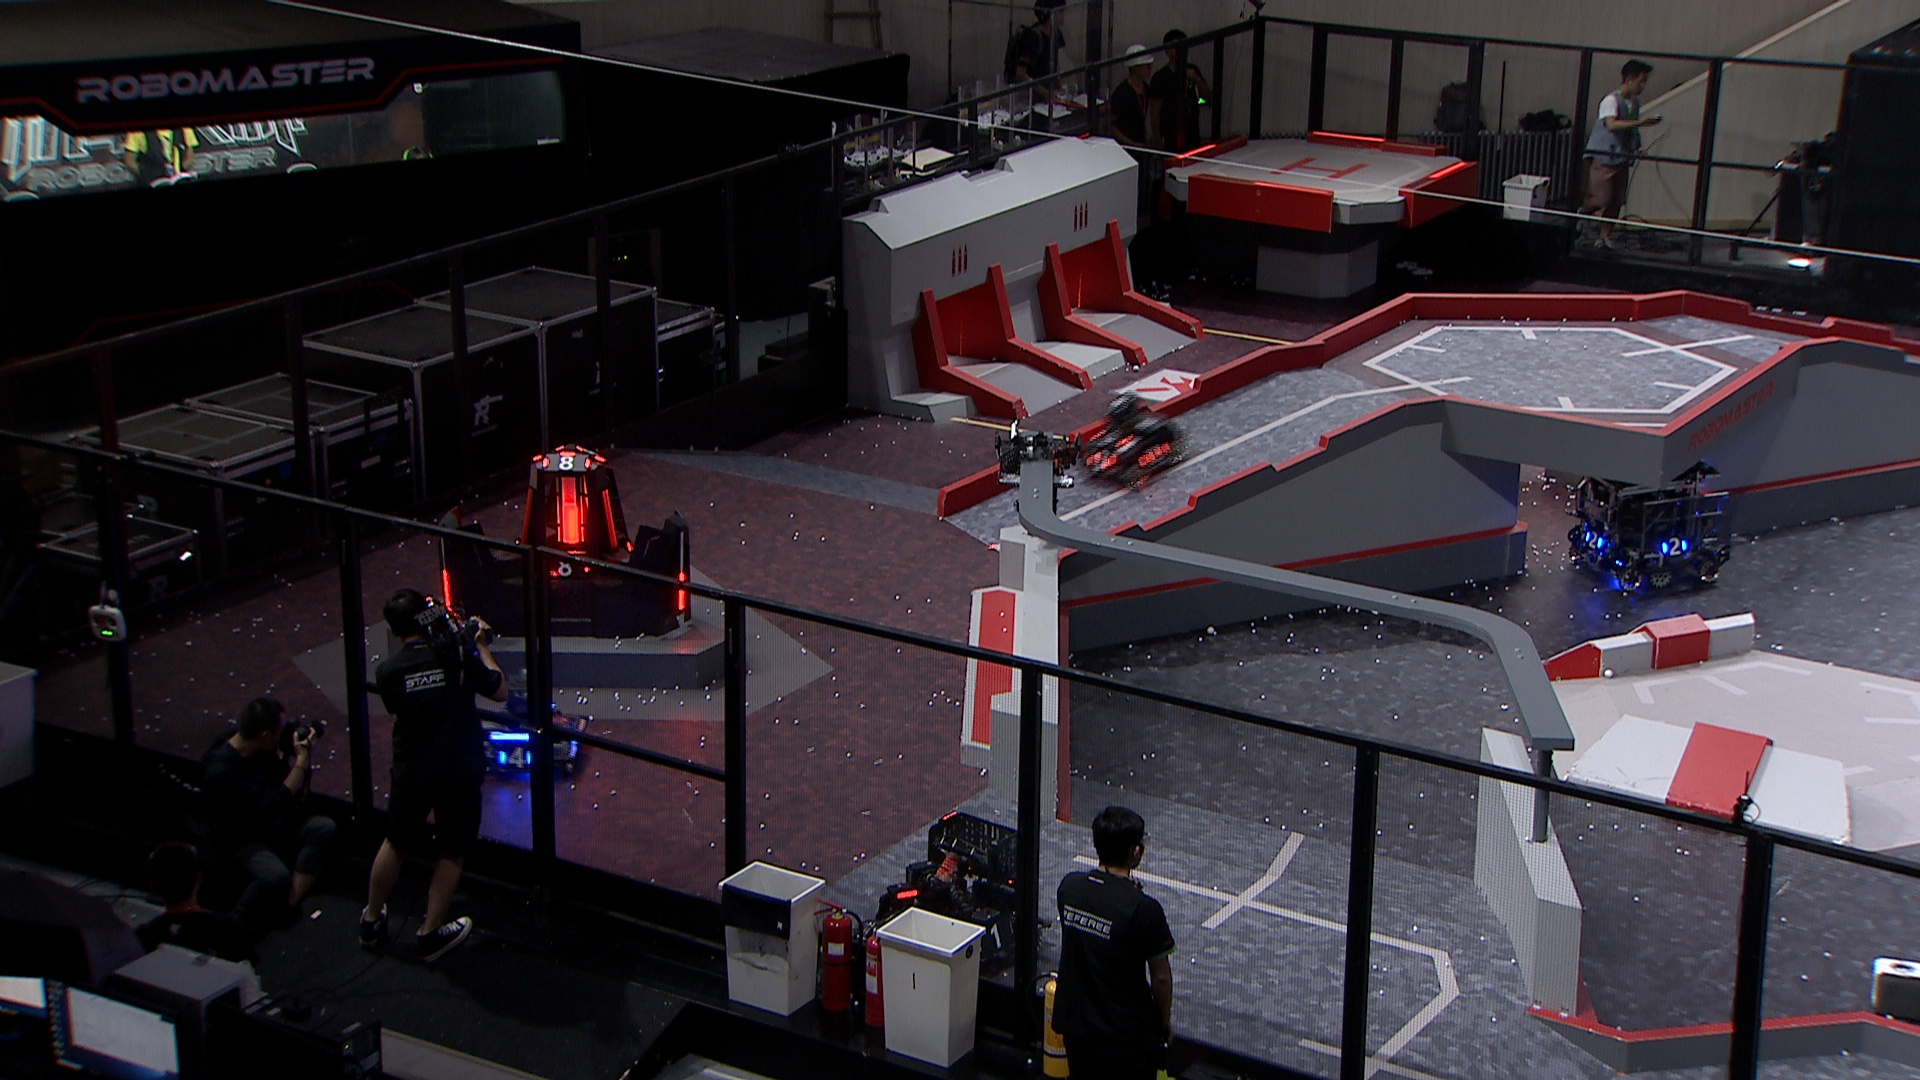armor: (975, 913, 1019, 953), (558, 501, 584, 549), (600, 487, 618, 551), (517, 485, 534, 546), (541, 451, 589, 471), (543, 556, 589, 576), (1139, 439, 1168, 467), (439, 564, 455, 615), (498, 746, 533, 765), (1084, 451, 1116, 471), (1093, 429, 1124, 448), (676, 570, 688, 616), (1580, 531, 1604, 553), (1664, 541, 1688, 556)
base: (429, 436, 698, 638)
car: (868, 808, 1046, 986), (1563, 448, 1735, 597), (1069, 390, 1187, 493), (463, 687, 585, 781)
watcher: (984, 414, 1076, 531)
